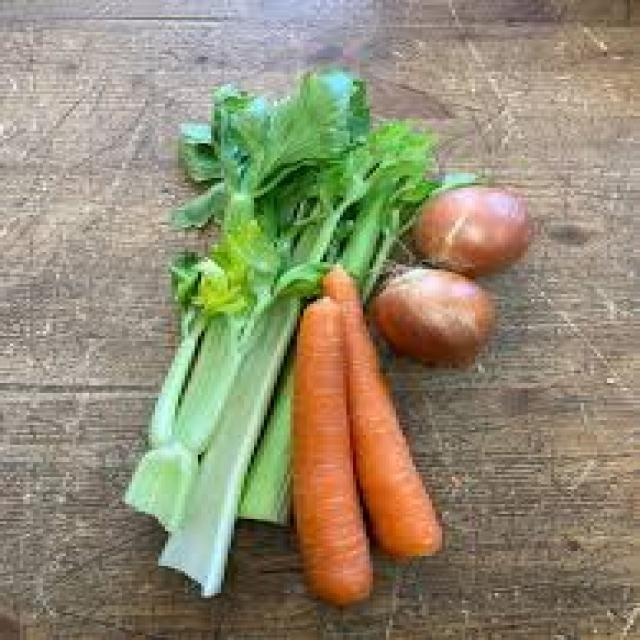Carrot: (289, 297, 375, 602)
